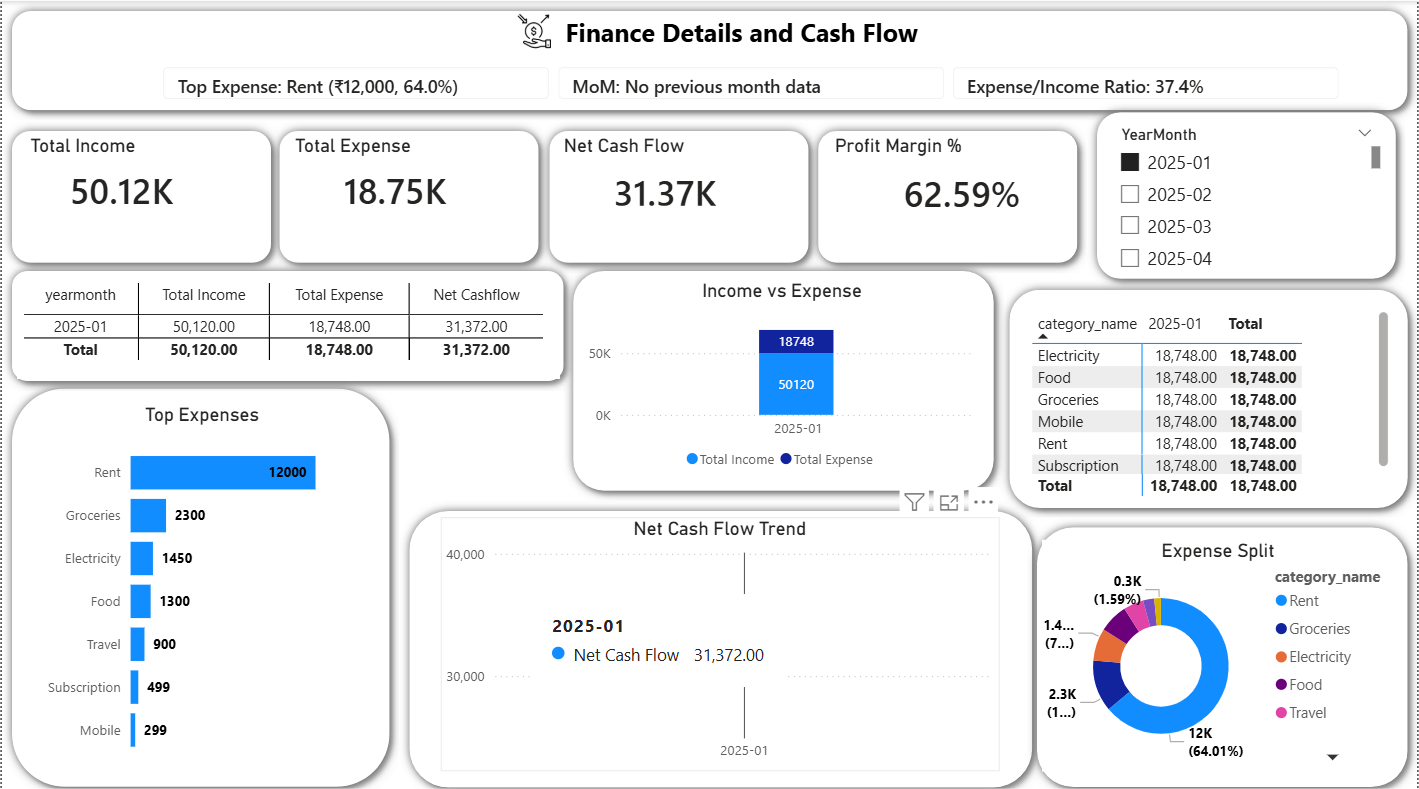

The dashboard page shown, as its layout file describes it:
{"tool":"powerbi","page":{"name":"Page 1","canvas":[1280,720],"ordinal":0},"visuals":[{"type":"shape","box":[0,0,1280.2,107.8],"z":0},{"type":"image","box":[459,11,45.3,31.9],"z":1000},{"type":"shape","box":[0,108,252.4,137.2],"z":2000},{"type":"shape","box":[242,108,252.4,137.2],"z":3000},{"type":"shape","box":[486,108,252.3,137.2],"z":4000},{"type":"shape","box":[729.1,108,252.3,137.2],"z":5000},{"type":"cardVisual","fields":{"Data":["DimDate.Total Income"]},"box":[20.9,130.2,182.6,83.7],"z":6000},{"type":"textbox","title":"Total Income","box":[20.8,121,105.4,24.5],"z":7000},{"type":"cardVisual","fields":{"Data":["DimDate.Total Expense"]},"box":[268.6,130.2,181.4,83.7],"z":8000},{"type":"textbox","title":"Total Expense","box":[260.5,121,119.8,24.4],"z":9000},{"type":"cardVisual","fields":{"Data":["DimDate.Net Cash Flow"]},"box":[512.8,132.6,165.1,81.4],"z":10000},{"type":"textbox","title":"Net Cash Flow","box":[503.5,121,119.8,24.4],"z":11000},{"type":"cardVisual","fields":{"Data":["DimDate.Profit Margin %"]},"box":[775.5,132.3,177.6,84.5],"z":12000},{"type":"textbox","title":"Profit Margin %","box":[748.8,121,127.9,24.4],"z":13000},{"type":"shape","box":[981.4,91.9,288.4,168.6],"z":14000},{"type":"slicer","fields":{"Values":["DimMonth.YearMonth"]},"box":[1000,107,252.3,138.4],"z":15000},{"type":"shape","box":[507.3,235.5,398.4,216.7],"z":16000},{"type":"shape","box":[359.5,452.2,581.3,268.1],"z":17000},{"type":"shape","box":[0,342,359.5,378.3],"z":18000},{"type":"shape","box":[927,467.3,353.3,253],"z":19000},{"type":"shape","box":[901.9,251.8,378.3,215.5],"z":20000},{"type":"shape","box":[0,235.2,517,117.6],"z":21000},{"type":"pivotTable","fields":{"Rows":["bi_suite vw_expense_by_category.category_name"],"Values":["Sum(bi_suite vw_monthly_cashflow.total_expense)"],"Columns":["DimMonth.YearMonth"]},"box":[927,275.6,332,176.6],"z":22000},{"type":"columnChart","title":"Income vs Expense","fields":{"Category":["DimMonth.YearMonth"],"Y":["DimDate.Total Income","DimDate.Total Expense"]},"box":[526.1,251.8,359.5,180.4],"z":23000},{"type":"donutChart","title":"Expense Split","fields":{"Category":["bi_suite vw_expense_by_category.category_name"],"Y":["Sum(bi_suite vw_expense_by_category.total_expense)"]},"box":[940.9,487.6,318.5,209.5],"z":24000},{"type":"lineChart","title":"Net Cash Flow Trend","fields":{"Category":["DimMonth.YearMonth"],"Y":["DimDate.Net Cash Flow"]},"box":[397.1,467.3,504.8,229.2],"z":25000},{"type":"clusteredBarChart","title":"Top Expenses","fields":{"Category":["bi_suite vw_expense_by_category.category_name"],"Y":["Sum(bi_suite vw_expense_by_category.total_expense)"]},"box":[30.1,364.5,300.6,332],"z":26000},{"type":"tableEx","fields":{"Values":["bi_suite vw_monthly_cashflow.yearmonth","Sum(bi_suite vw_monthly_cashflow.total_income)","Sum(bi_suite vw_monthly_cashflow.total_expense)","Sum(bi_suite vw_monthly_cashflow.net_cashflow)"]},"box":[13.5,249.9,491.3,91.9],"z":27000},{"type":"shape","box":[503.5,11,332,31.9],"z":28000},{"type":"cardVisual","fields":{"Data":["_Measures.Finance Insight 1","_Measures.Finance Insight 2","_Measures.Finance Insight 3"]},"box":[128.6,42.9,1098.9,63.7],"z":29000}]}

Visuals, with their boxes in screenshot pixels (x1, y1, x2, y2), scaled from the page's 1280x720 canvas onto the 1419x789 screenshot:
shape: bbox(0, 0, 1418, 118)
image: bbox(509, 12, 559, 47)
shape: bbox(0, 118, 280, 269)
shape: bbox(268, 118, 548, 269)
shape: bbox(539, 118, 818, 269)
shape: bbox(808, 118, 1088, 269)
cardVisual - DimDate.Total Income: bbox(23, 143, 226, 234)
"Total Income" textbox: bbox(23, 133, 140, 159)
cardVisual - DimDate.Total Expense: bbox(298, 143, 499, 234)
"Total Expense" textbox: bbox(289, 133, 422, 159)
cardVisual - DimDate.Net Cash Flow: bbox(568, 145, 752, 235)
"Net Cash Flow" textbox: bbox(558, 133, 691, 159)
cardVisual - DimDate.Profit Margin %: bbox(860, 145, 1057, 238)
"Profit Margin %" textbox: bbox(830, 133, 972, 159)
shape: bbox(1088, 101, 1408, 285)
slicer - DimMonth.YearMonth: bbox(1109, 117, 1388, 269)
shape: bbox(562, 258, 1004, 496)
shape: bbox(399, 496, 1043, 788)
shape: bbox(0, 375, 399, 788)
shape: bbox(1028, 512, 1418, 788)
shape: bbox(1000, 276, 1418, 512)
shape: bbox(0, 258, 573, 387)
pivotTable - bi_suite vw_expense_by_category.category_name x Sum(bi_suite vw_monthly_cashflow.total_expense): bbox(1028, 302, 1396, 496)
"Income vs Expense" columnChart: bbox(583, 276, 982, 474)
"Expense Split" donutChart: bbox(1043, 534, 1396, 764)
"Net Cash Flow Trend" lineChart: bbox(440, 512, 1000, 763)
"Top Expenses" clusteredBarChart: bbox(33, 399, 367, 763)
tableEx - bi_suite vw_monthly_cashflow.yearmonth x Sum(bi_suite vw_monthly_cashflow.total_income): bbox(15, 274, 560, 375)
shape: bbox(558, 12, 926, 47)
cardVisual - _Measures.Finance Insight 1 x _Measures.Finance Insight 2: bbox(143, 47, 1361, 117)
